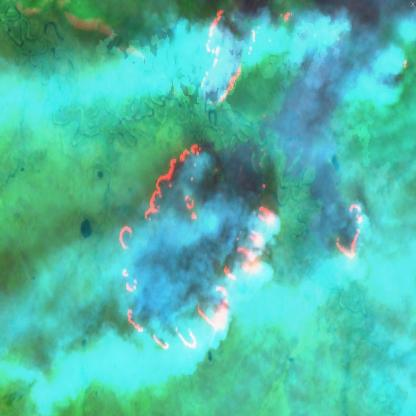fire: (115, 139, 280, 353), (197, 5, 261, 115), (333, 200, 369, 263)
